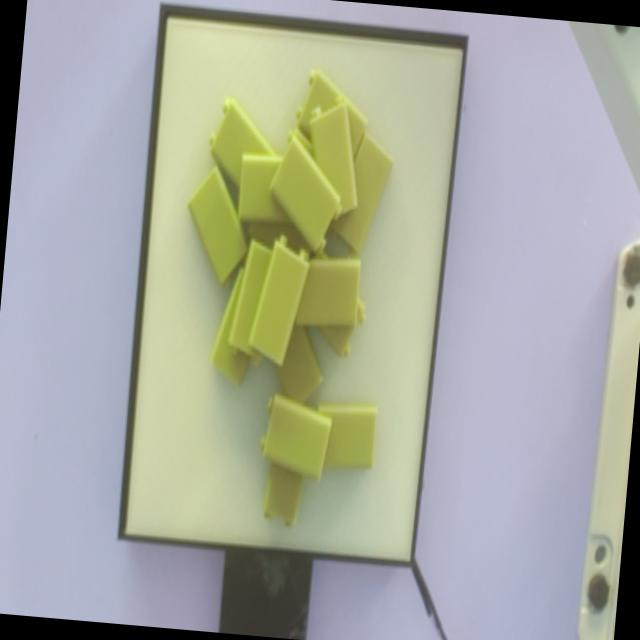bateria: (268, 134, 342, 253), (246, 233, 309, 368), (260, 391, 332, 482)
mesa: (117, 2, 468, 566)
